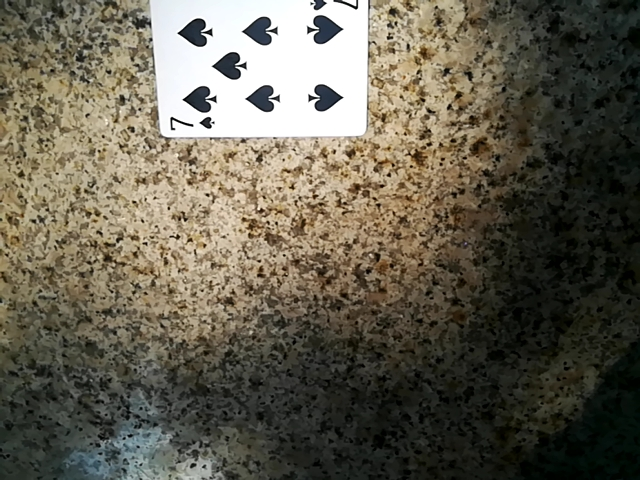ht 7: (145, 0, 371, 140)
